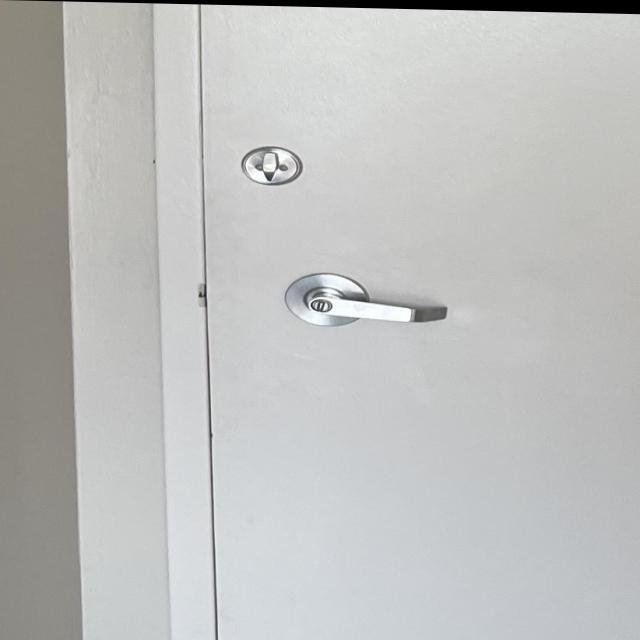door_handle: (279, 282, 476, 339)
